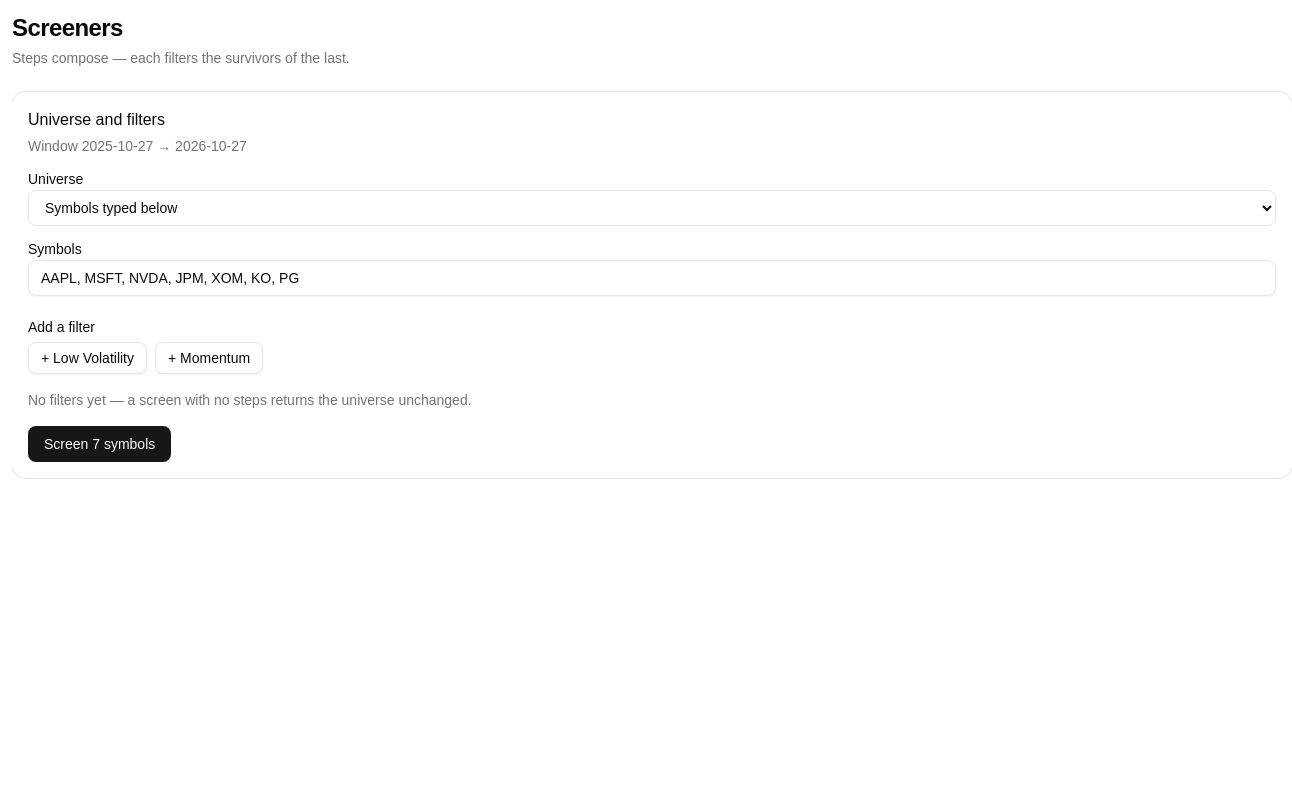
Scenario: ScreenersPage — building a screen › removes a step
What coordinates should you click on to do the following:
click the button "+ Momentum"
I would click on:
 (209, 358)
Its box is [155,342,263,374].
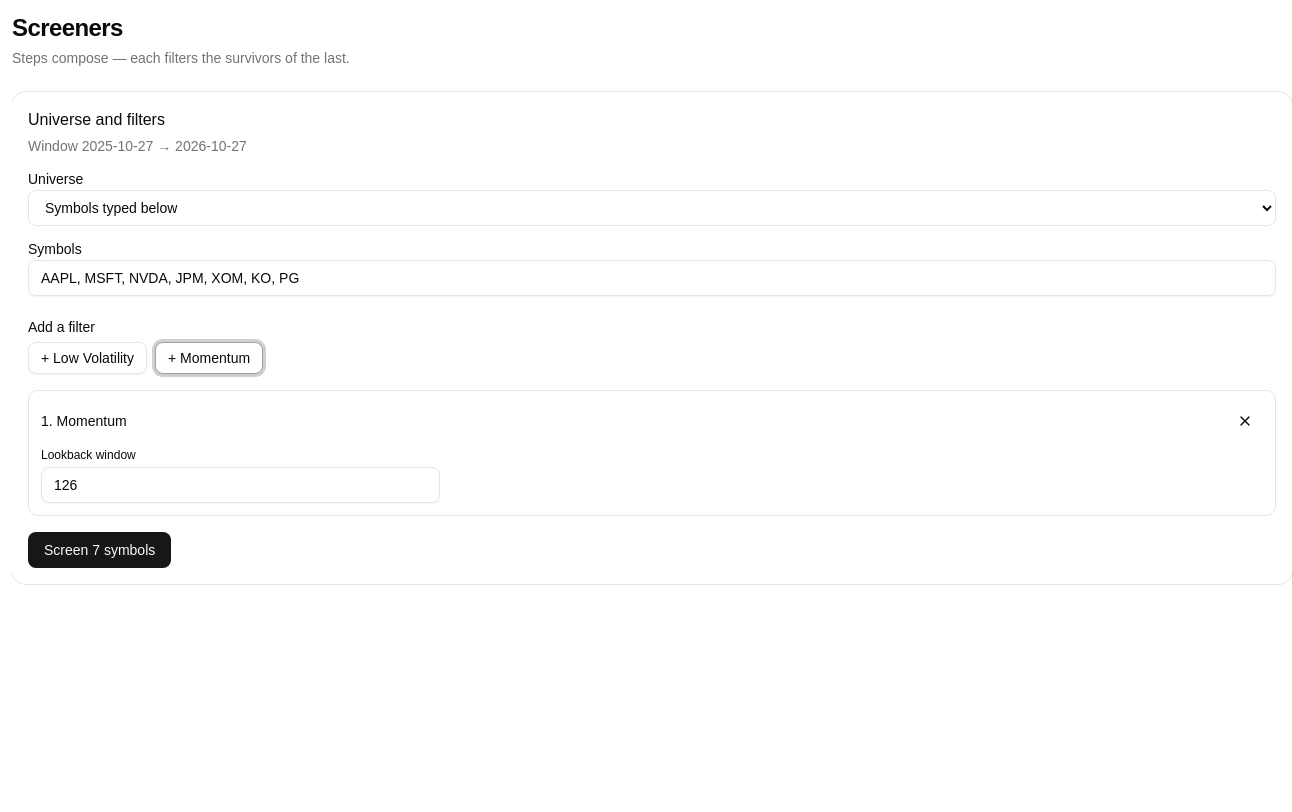
Now the text "1. Momentum" is shown, box [41,411,127,431]
What coordinates should you click on to do the following:
click the button named "Remove step 1"
I would click on:
 (1245, 421)
Its box is [1227,403,1263,439].
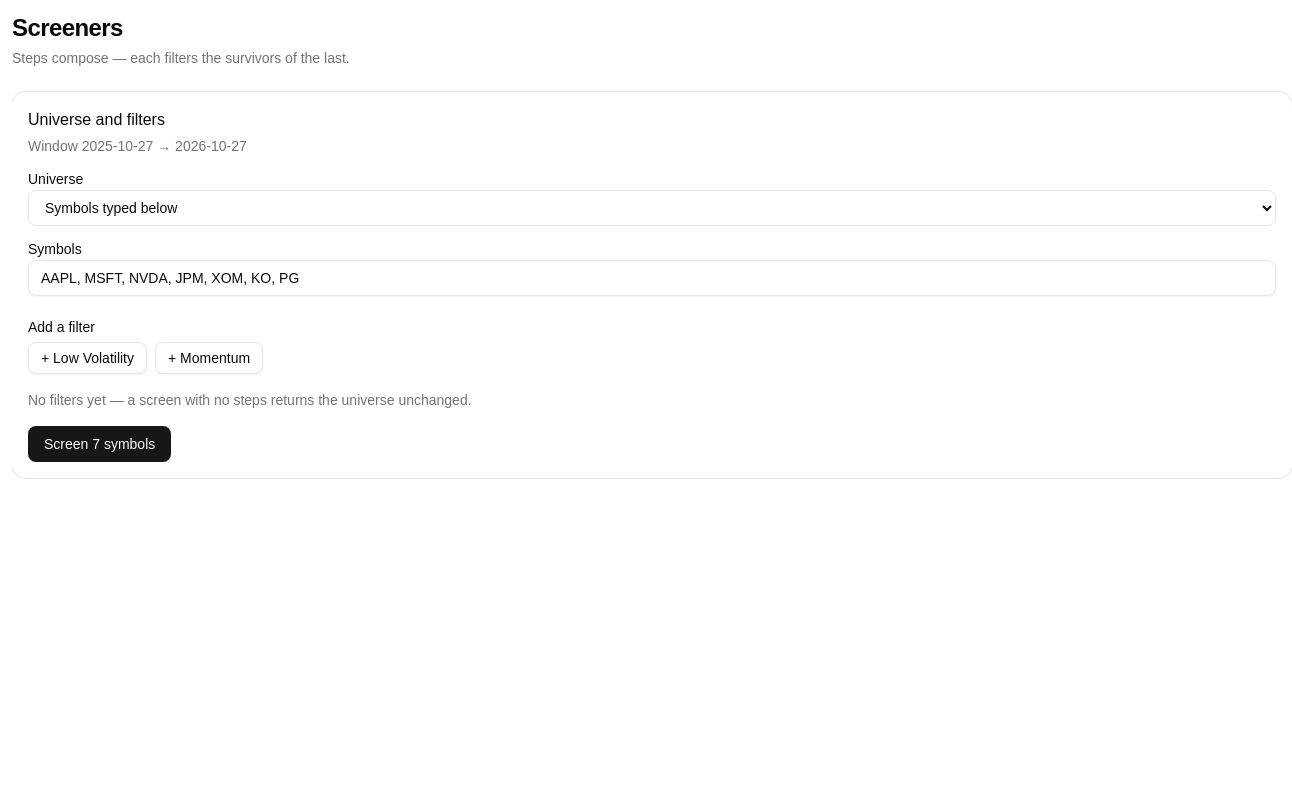
Now the text "1. Momentum" is gone
